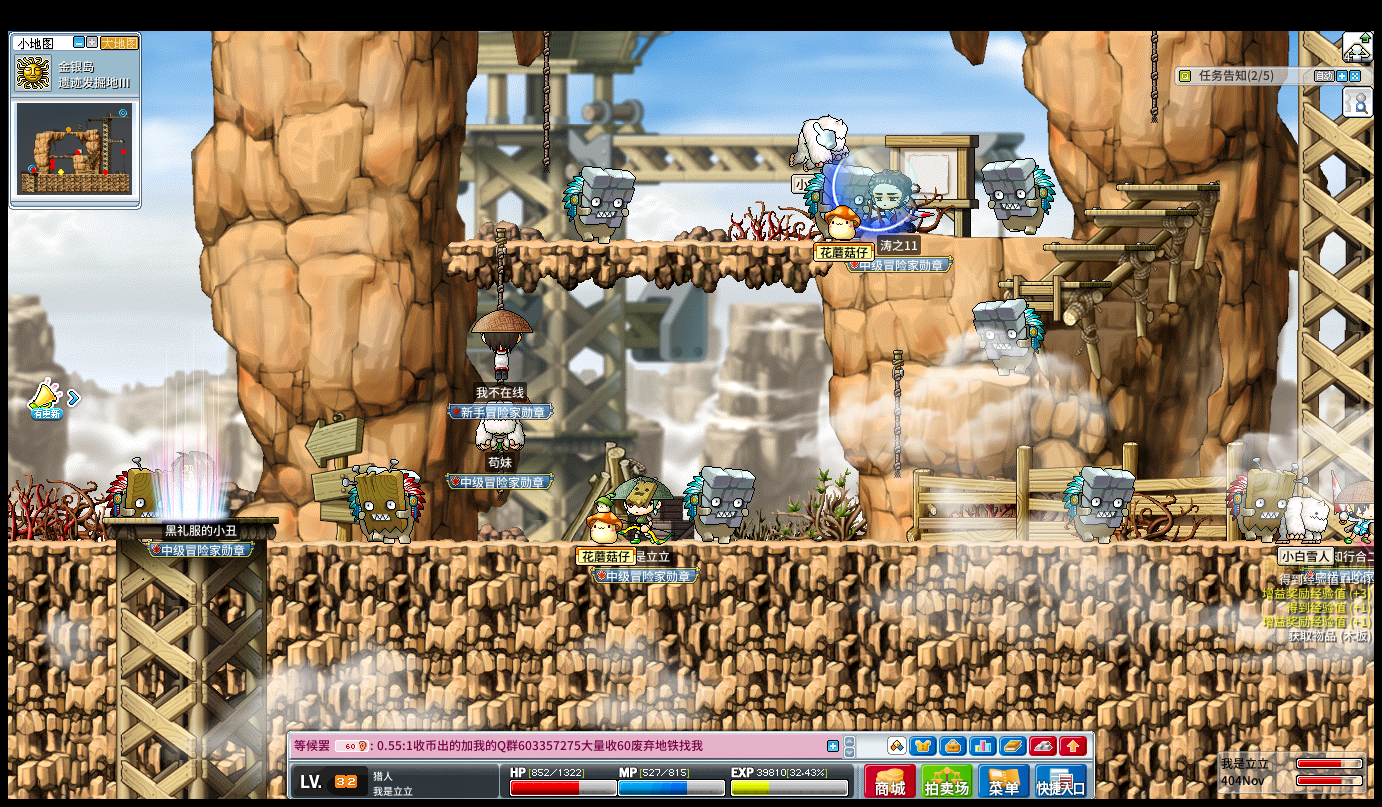floor: (268, 537, 1373, 549), (444, 239, 814, 250), (917, 366, 1031, 386), (102, 517, 279, 524), (9, 540, 116, 550), (950, 233, 1073, 241), (998, 281, 1112, 288), (1085, 209, 1198, 216), (1043, 244, 1155, 251), (1116, 184, 1220, 191)
monster: (342, 460, 426, 544), (980, 158, 1056, 235), (561, 166, 635, 244), (684, 466, 756, 544), (972, 297, 1043, 376), (1063, 467, 1135, 544), (1225, 457, 1278, 543), (106, 458, 160, 516), (803, 165, 871, 206)
rope: (892, 350, 903, 478), (542, 30, 549, 172), (495, 227, 506, 310), (1150, 30, 1158, 123)
